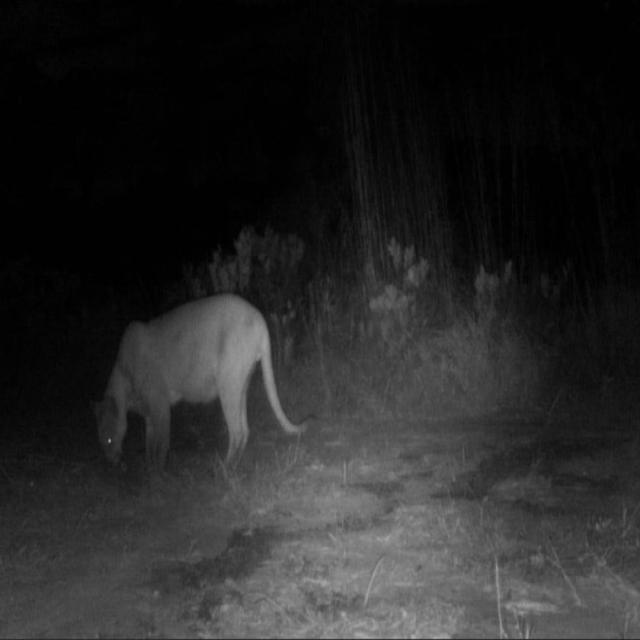Jaguar: (92, 289, 316, 478)
